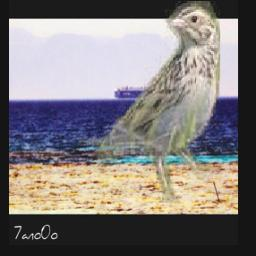Sparrow: (77, 2, 221, 204)
